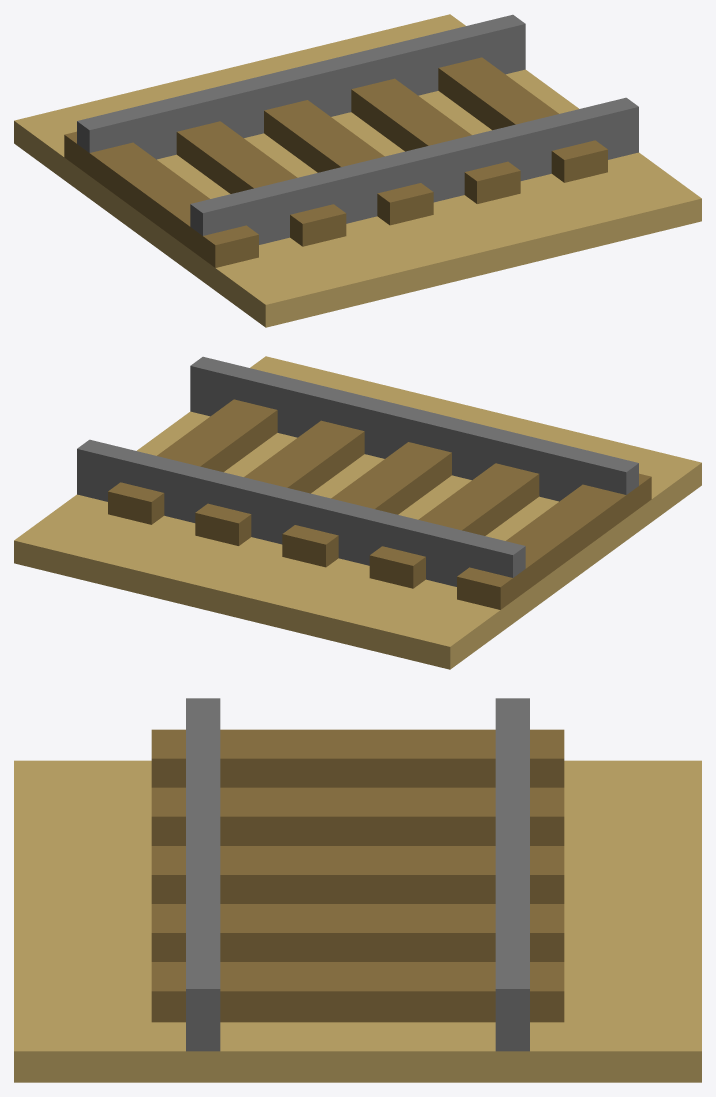
The model's file is DesertGroundRail_001.obj.
3 views of the same model, one above another, from view 1: azimuth 30°, elevation 25°; view 2: azimuth 150°, elevation 25°; view 3: azimuth 270°, elevation 25° (orthographic). The views are drawn at different scales.
Bounding box in the file's own units: 2 × 0.3 × 2.
1 material, 1 textured.
